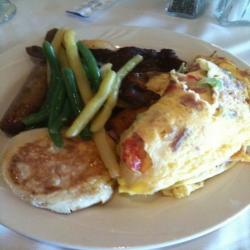bread: (4, 124, 129, 220)
omelette: (116, 54, 250, 199)
